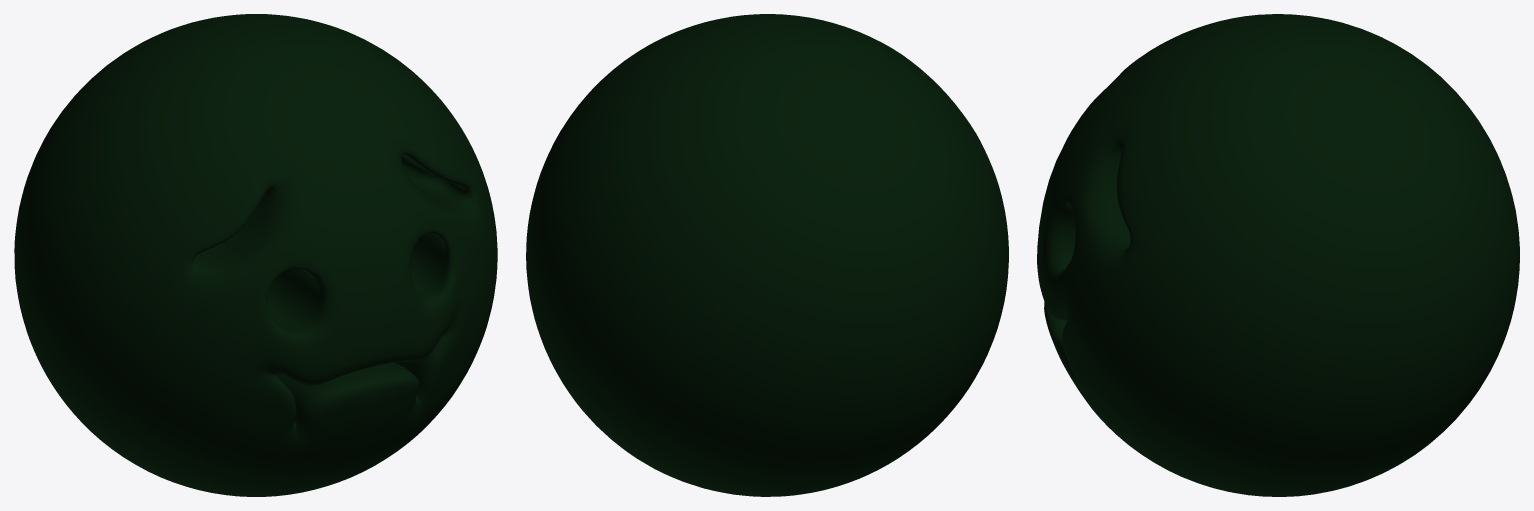
The model's file is sick FBX.FBX.
3 renders of one model, left to right at view 1: azimuth 30°, elevation 25°; view 2: azimuth 150°, elevation 25°; view 3: azimuth 270°, elevation 25°, orthographic.
Parts seen in each view (by area): view 1: ZBrush_defualt_group; view 2: ZBrush_defualt_group; view 3: ZBrush_defualt_group.
Boxes of the visible parts, bbox=[...] form: ZBrush_defualt_group: bbox=[14, 14, 497, 496]; ZBrush_defualt_group: bbox=[526, 14, 1008, 496]; ZBrush_defualt_group: bbox=[1037, 14, 1519, 496].
Size of the model in its own units: 22.3 by 22.31 by 22.3.
